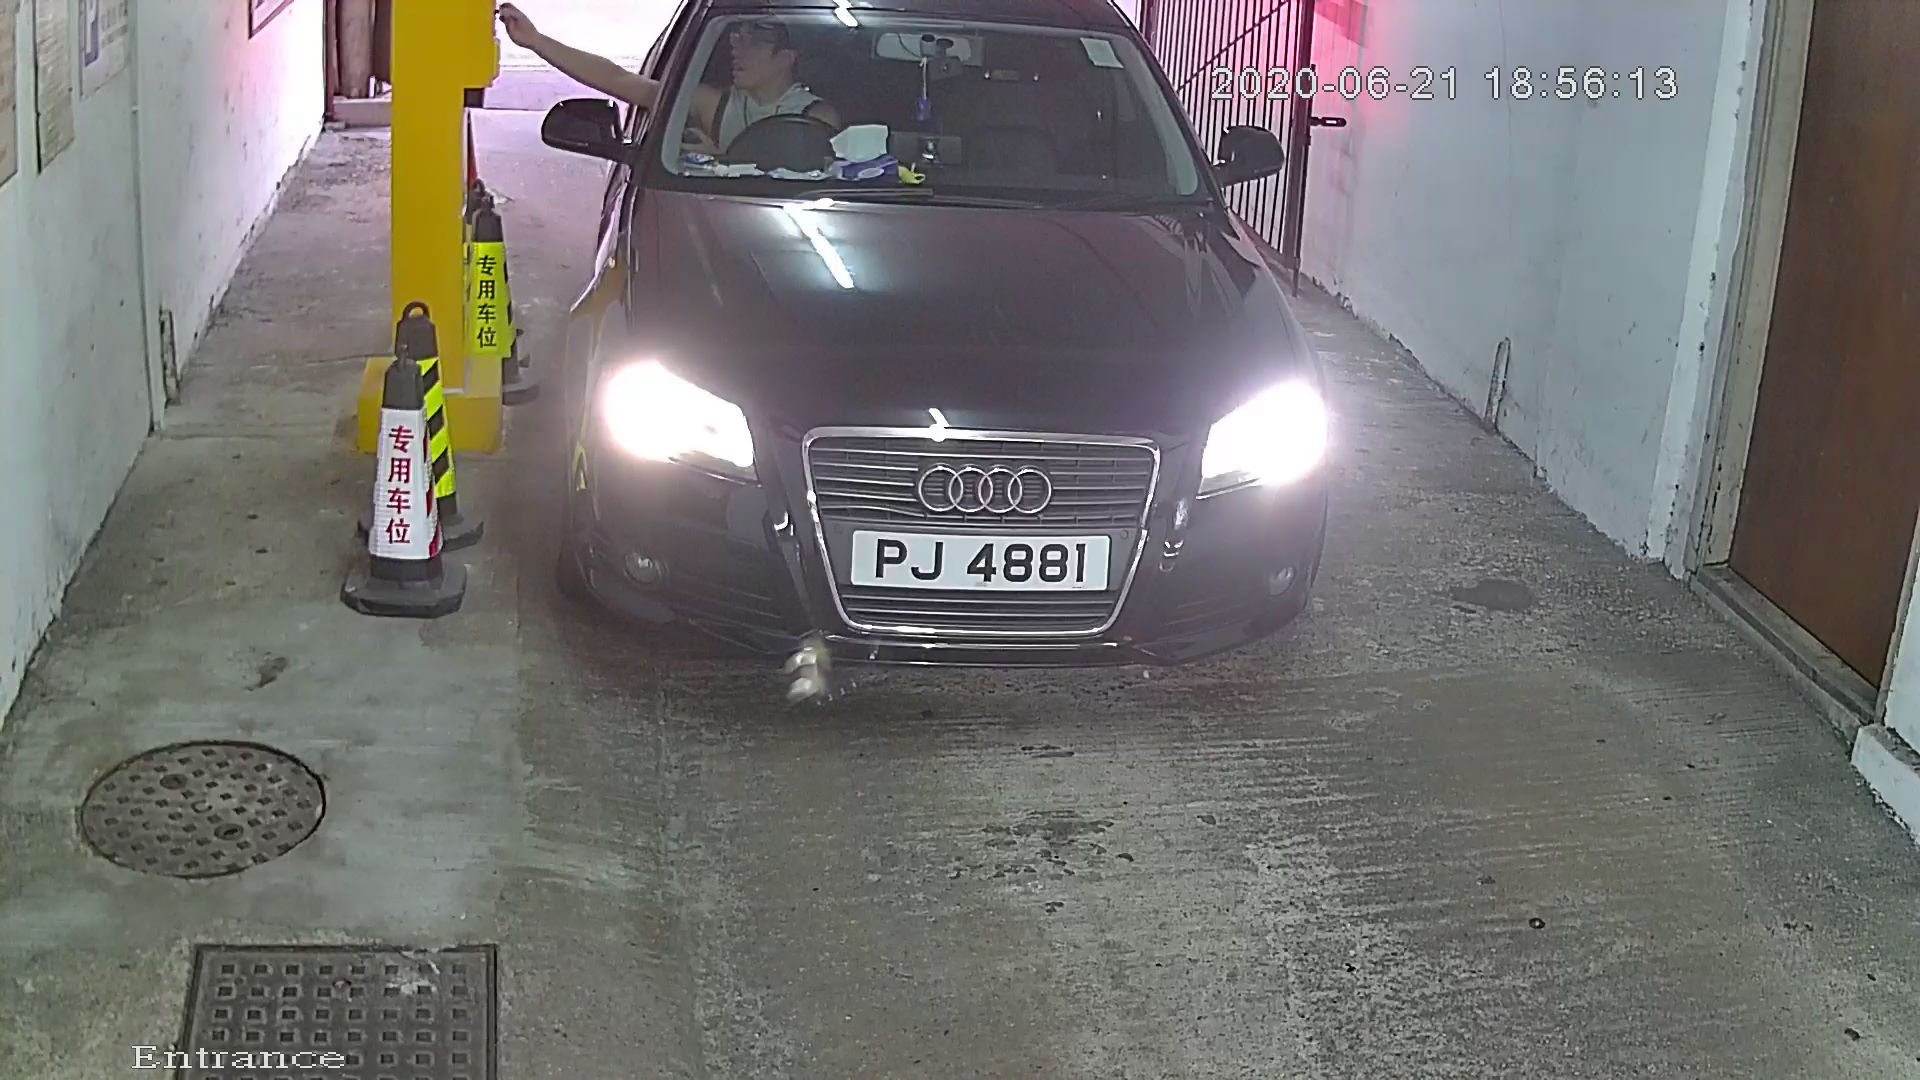privatecar: (463, 3, 1420, 727)
